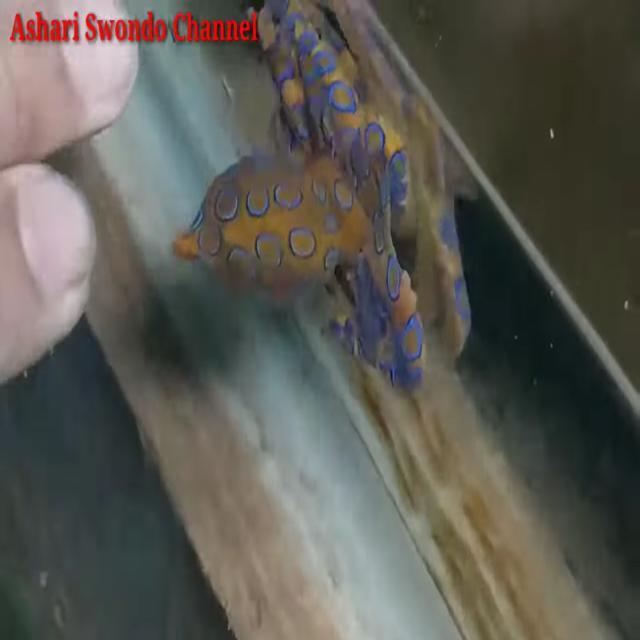blue_ringed_octopus: (171, 2, 427, 405)
